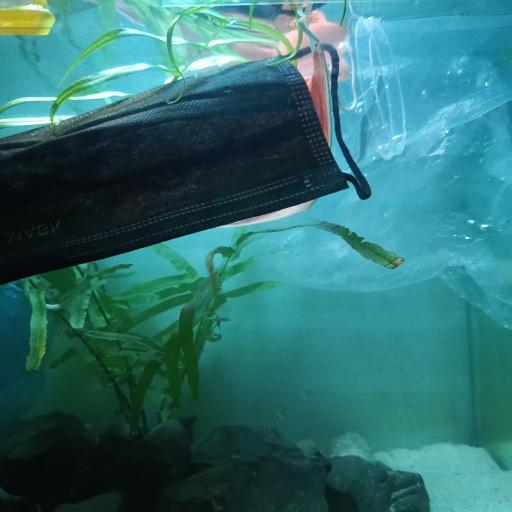mask: (0, 42, 373, 285)
plastic_bag: (251, 58, 512, 330)
plastic_cup: (355, 14, 512, 160)
plastic_straw: (0, 6, 57, 36)
